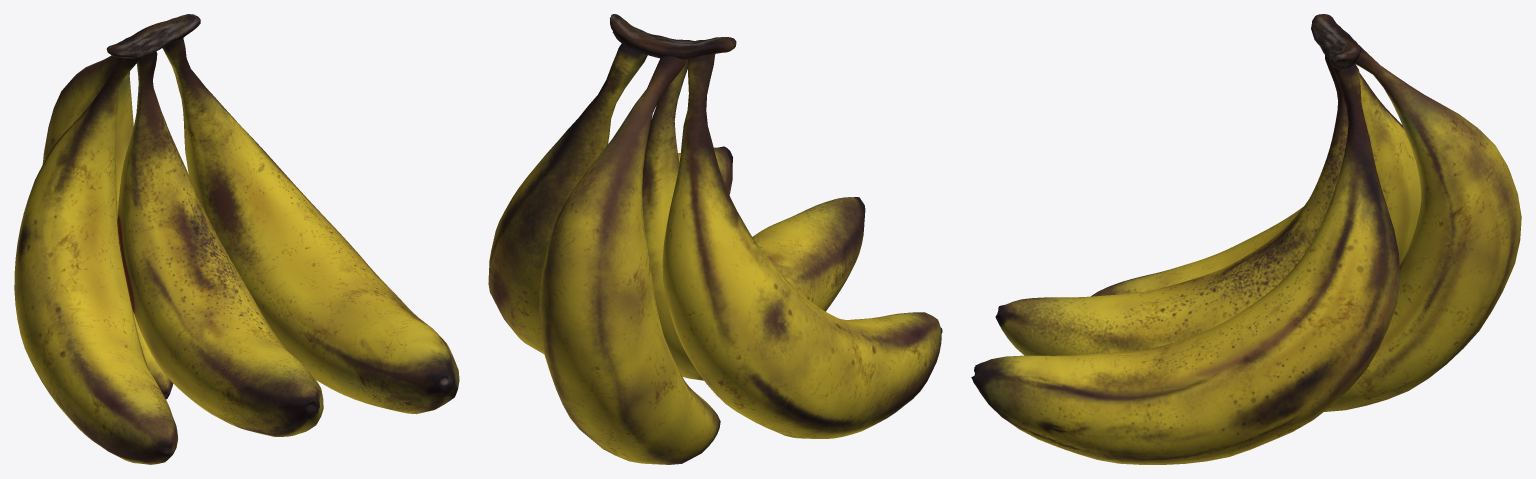
Rendered from banana.glb.
3 renders of one model, left to right at view 1: azimuth 30°, elevation 25°; view 2: azimuth 150°, elevation 25°; view 3: azimuth 270°, elevation 25°, orthographic. The views are drawn at different scales.
Visible parts, largest first — view 1: polySurface4; view 2: polySurface4; view 3: polySurface4.
Part boxes in pixels (x1,y1,x2,y2): polySurface4: (14,14,459,464); polySurface4: (488,14,942,464); polySurface4: (971,14,1521,464).
Size of the model in its own units: 0.0322 by 0.0348 by 0.0455.
Materials: 1 (1 with a texture image).
